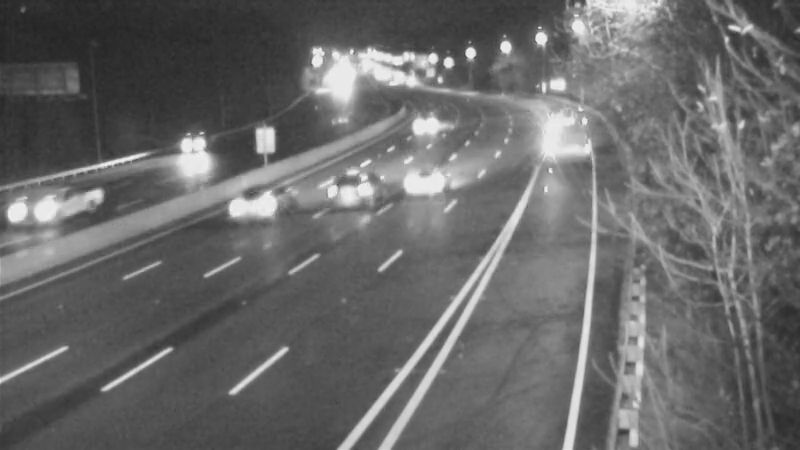vehicle: (226, 169, 306, 249), (407, 133, 487, 213), (319, 149, 399, 229), (7, 177, 87, 257), (532, 102, 582, 152), (398, 100, 448, 150), (184, 118, 234, 168)
